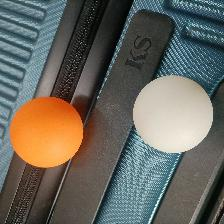WhiteBall: (132, 74, 213, 153)
YellowBall: (8, 96, 83, 167)
